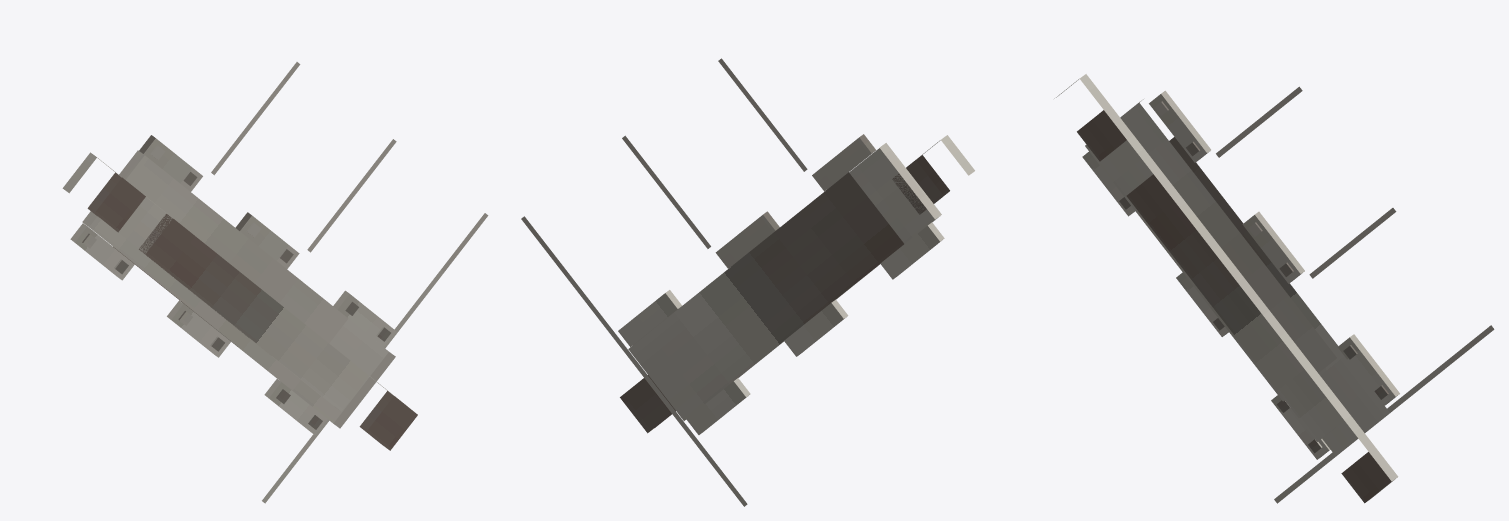
3 views of the same model, side by side, from view 1: azimuth 30°, elevation 25°; view 2: azimuth 150°, elevation 25°; view 3: azimuth 330°, elevation 25° (orthographic). The views are drawn at different scales.
Bounding box in the file's own units: 1.5 × 1.5 × 0.0969.
